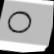no answer: (4, 6, 35, 37)
